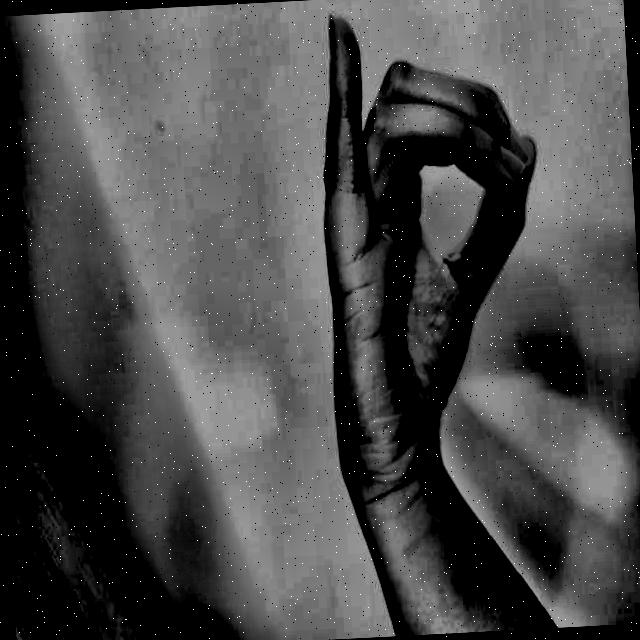Ou: (296, 0, 567, 523)
